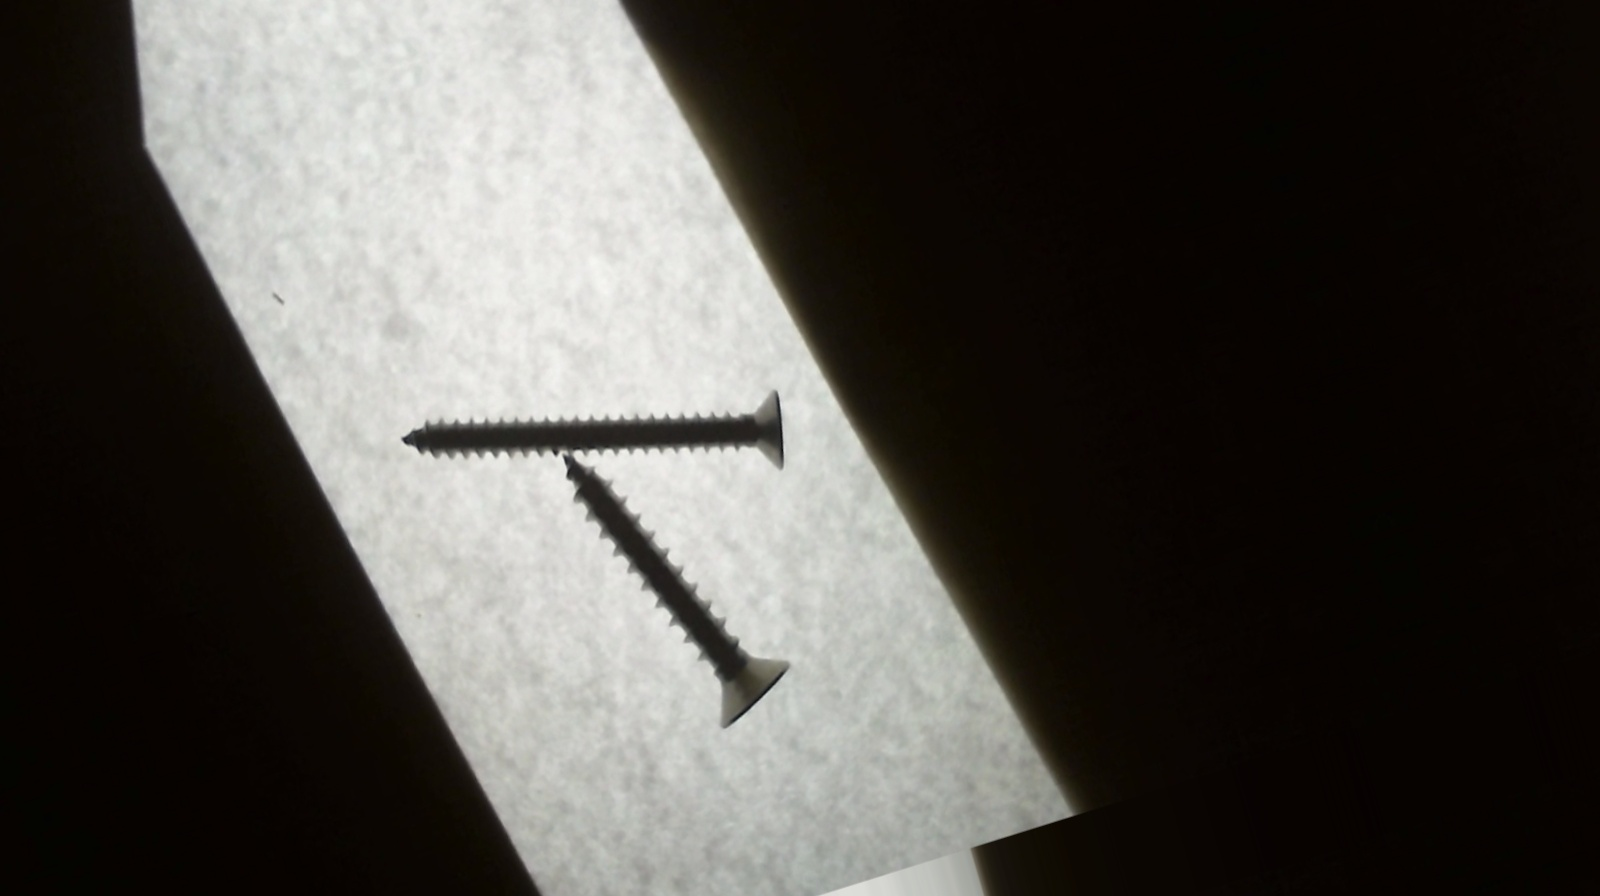S001: (554, 402, 811, 760)
S002: (395, 313, 802, 580)
